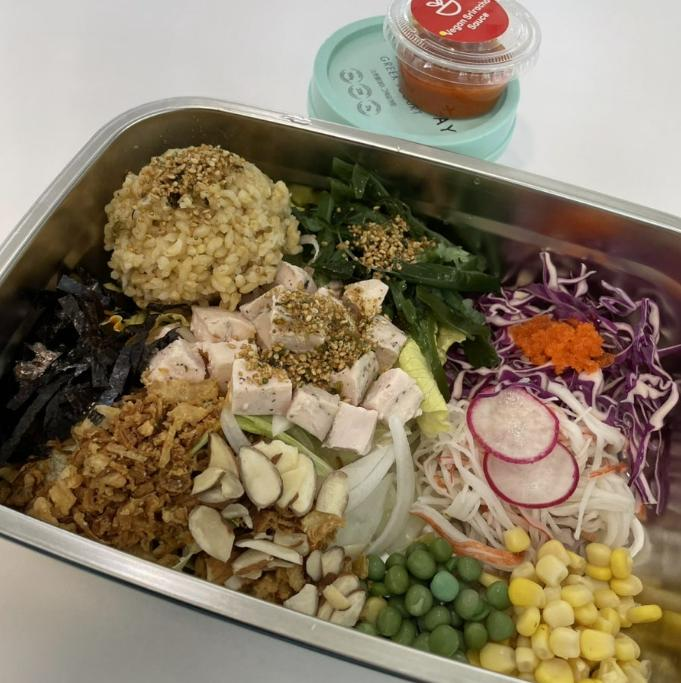Lunch Box: (0, 98, 680, 682)
cup: (308, 16, 519, 160), (384, 0, 540, 118)
